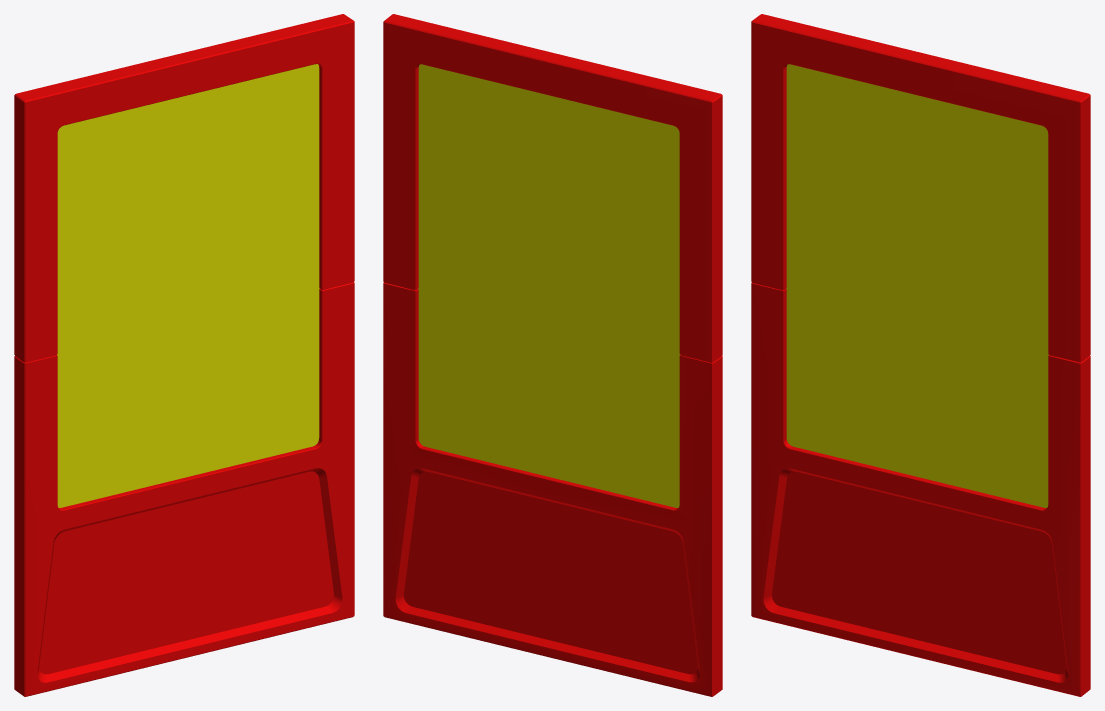
File: Door_1.fbx
The picture shows the model from 3 angles, left to right: view 1: azimuth 30°, elevation 25°; view 2: azimuth 150°, elevation 25°; view 3: azimuth 330°, elevation 25°; orthographic projection.
Visible parts, largest first — view 1: L7:polySurface465; view 2: L7:polySurface465; view 3: L7:polySurface465.
Boxes of the visible parts, left/top/right/bottom form: L7:polySurface465: left=14, top=14, right=354, bottom=696; L7:polySurface465: left=383, top=14, right=722, bottom=696; L7:polySurface465: left=751, top=14, right=1090, bottom=696.
Size of the model in its own units: 169 by 290 by 9.45.
